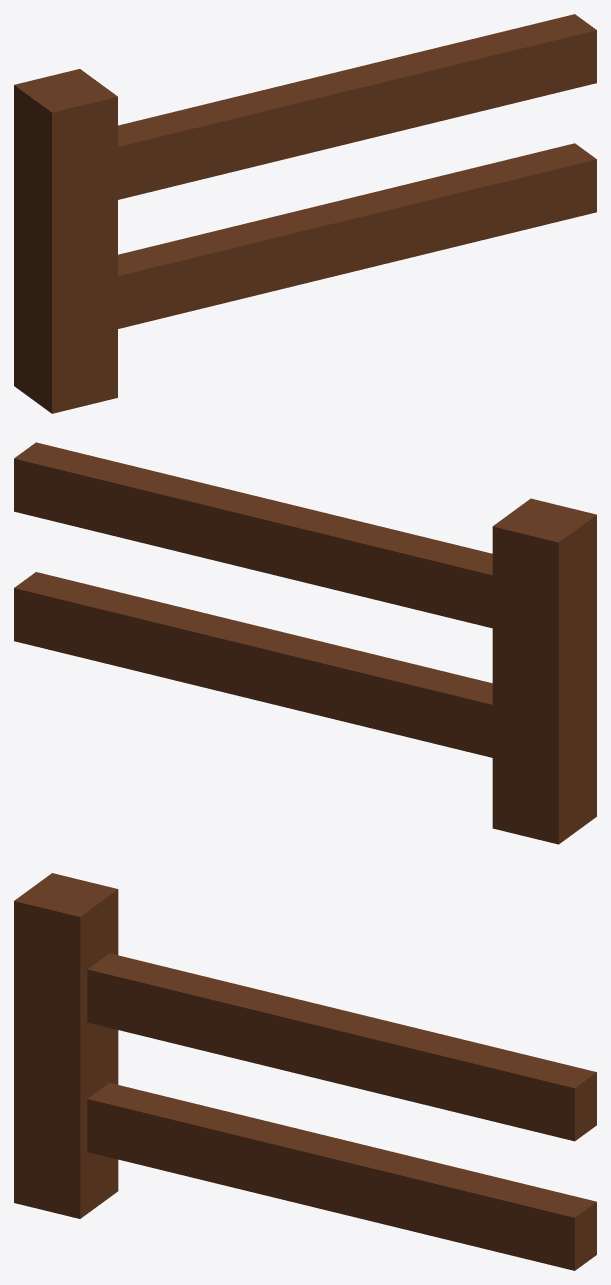
Rendered from Fence Tile_10.fbx.
3 views of the same model, one above another, from view 1: azimuth 30°, elevation 25°; view 2: azimuth 150°, elevation 25°; view 3: azimuth 330°, elevation 25° (orthographic).
Parts seen in each view (by area): view 1: Fence Tile_10; view 2: Fence Tile_10; view 3: Fence Tile_10.
Part boxes in pixels (left/top/right/bottom): Fence Tile_10: left=14, top=14, right=596, bottom=413; Fence Tile_10: left=14, top=442, right=596, bottom=844; Fence Tile_10: left=14, top=873, right=596, bottom=1270.
Bounding box in the file's own units: 205 × 107 × 24.49.
